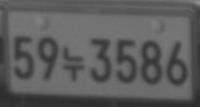3: (90, 38, 112, 82)
5: (13, 35, 34, 79), (116, 39, 136, 83)
6: (165, 40, 188, 85)
8: (141, 40, 162, 84)
9: (37, 36, 59, 80)
누: (63, 46, 84, 81)
